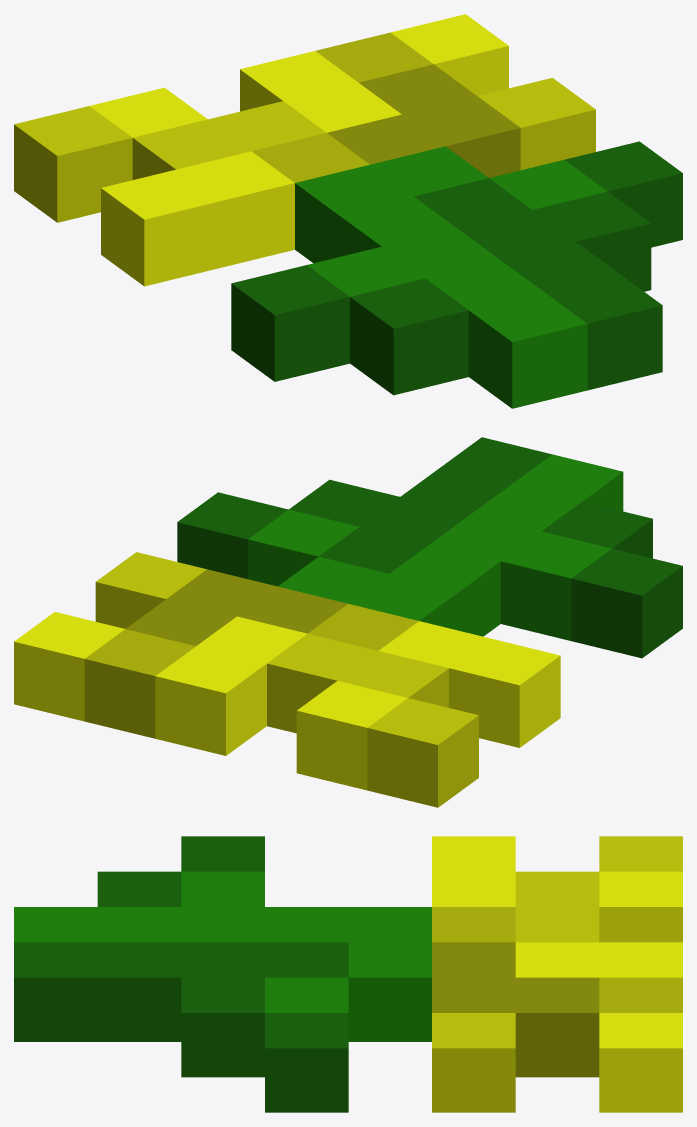
File: Dandelion.fbx
The picture shows the model from 3 angles, top to bottom: view 1: azimuth 30°, elevation 25°; view 2: azimuth 150°, elevation 25°; view 3: azimuth 270°, elevation 25°; orthographic projection. The views are drawn at different scales.
Visible parts, largest first — view 1: Plane; view 2: Plane; view 3: Plane.
Part boxes in pixels (bbox=[...]): Plane: bbox=[14, 14, 682, 408]; Plane: bbox=[14, 437, 682, 807]; Plane: bbox=[14, 836, 682, 1112].
Size of the model in its own units: 75 by 10.59 by 100.
